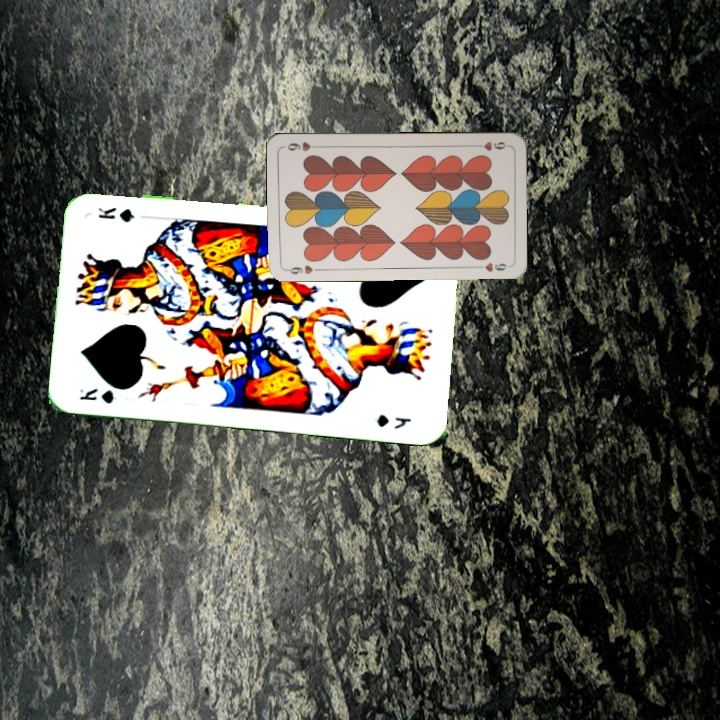GK: (75, 384, 120, 406)
H9: (470, 138, 510, 154), (282, 261, 322, 277)
